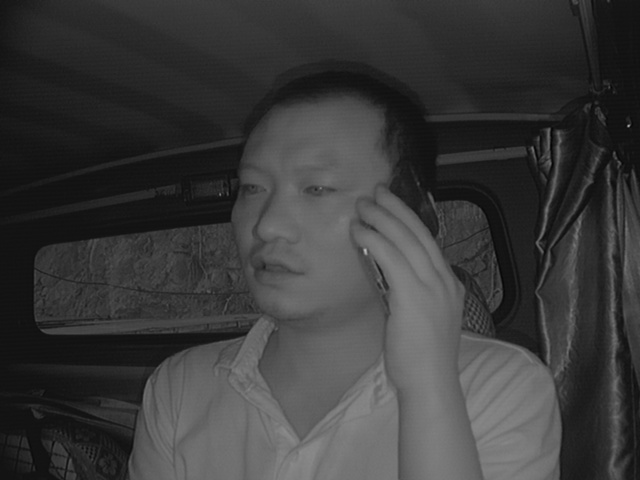hand: (353, 186, 472, 388)
